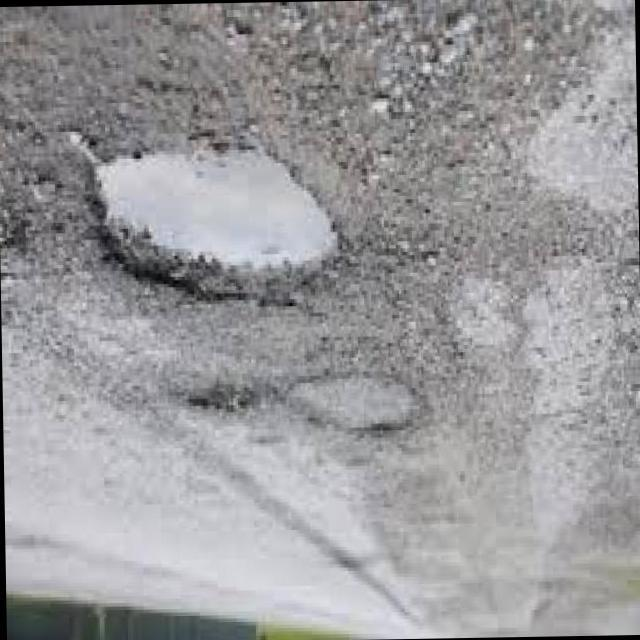pothole: (76, 119, 344, 338), (284, 367, 426, 445), (176, 376, 253, 419)
